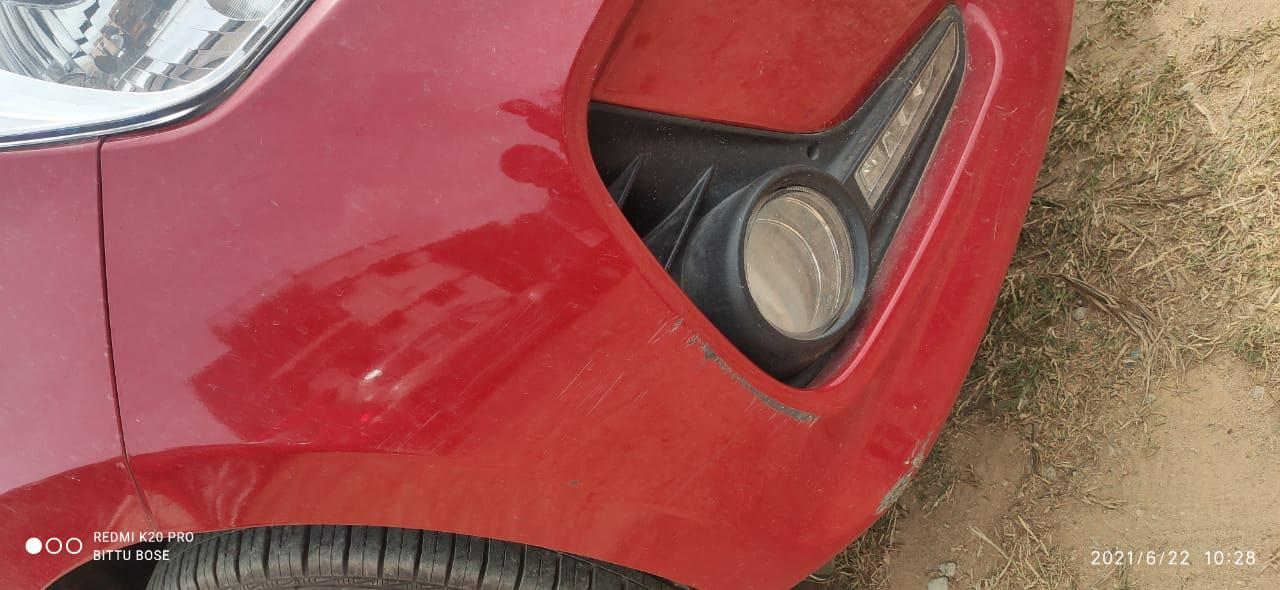front-bumper-dent: (331, 261, 952, 589)
